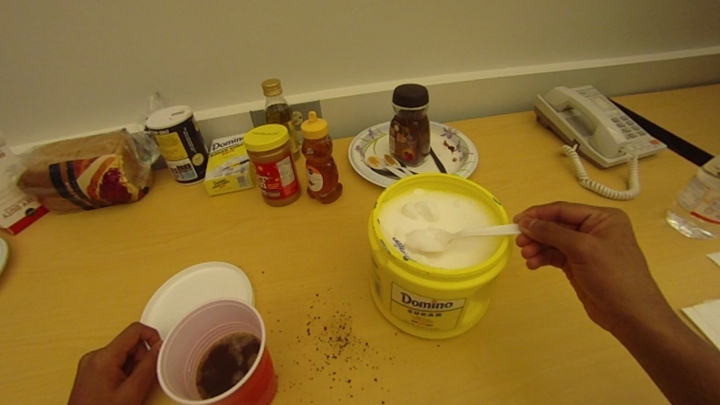hand: (510, 201, 665, 324), (70, 320, 166, 405)
